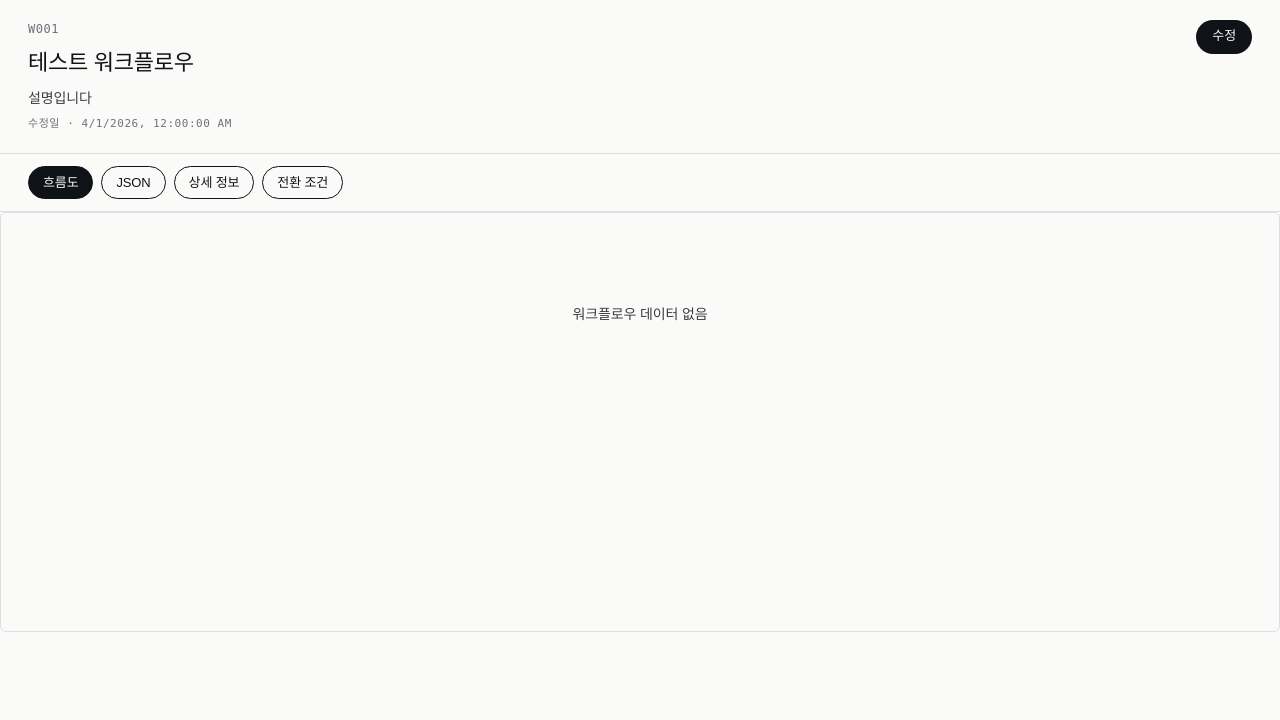
Test: WorkflowDetailPanel › 상세 정보 탭 클릭 시 initialState와 terminalStates를 표시한다
This screenshot has width=1280, height=720.
Click the tab "상세 정보" at point(214, 182), box x1=174 y1=166 x2=254 y2=199
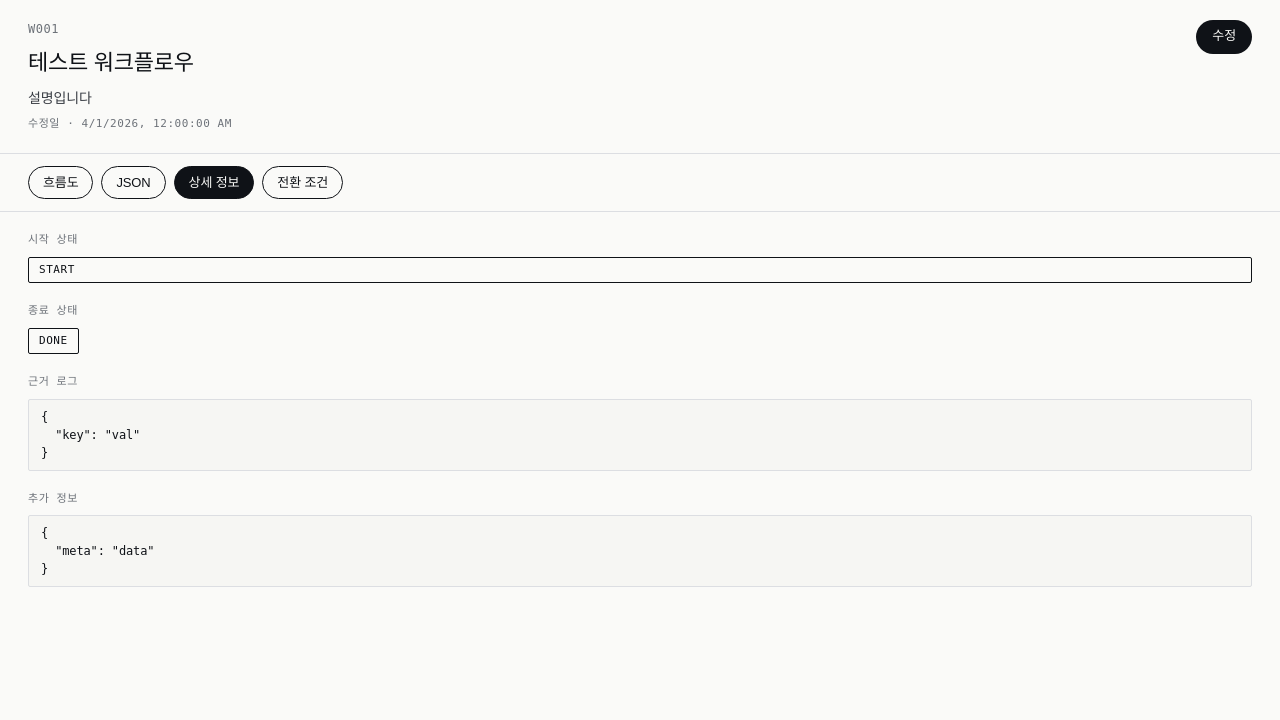
Now the text "시작 상태" is shown, box x1=28 y1=233 x2=78 y2=246
Now the text "종료 상태" is shown, box x1=28 y1=304 x2=78 y2=317
Now the text "START" is shown, box x1=28 y1=256 x2=1252 y2=283
